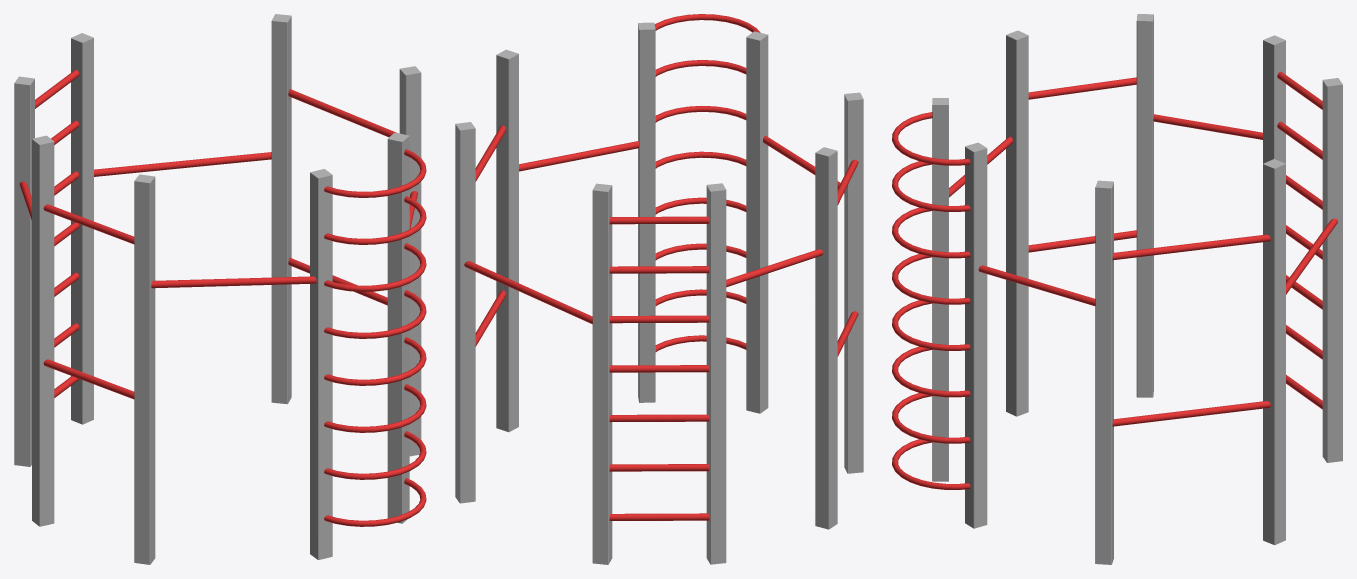
Rendered from Lesenki.fbx.
3 views of the same model, side by side, from view 1: azimuth 30°, elevation 25°; view 2: azimuth 150°, elevation 25°; view 3: azimuth 270°, elevation 25° (orthographic). The views are drawn at different scales.
Parts seen in each view (by area): view 1: Lesenki; view 2: Lesenki; view 3: Lesenki.
Part boxes in pixels (x1,y1,x2,y2): Lesenki: (14, 14, 426, 564); Lesenki: (455, 14, 863, 564); Lesenki: (892, 14, 1342, 564).
Size of the model in its own units: 248 by 250 by 271.
